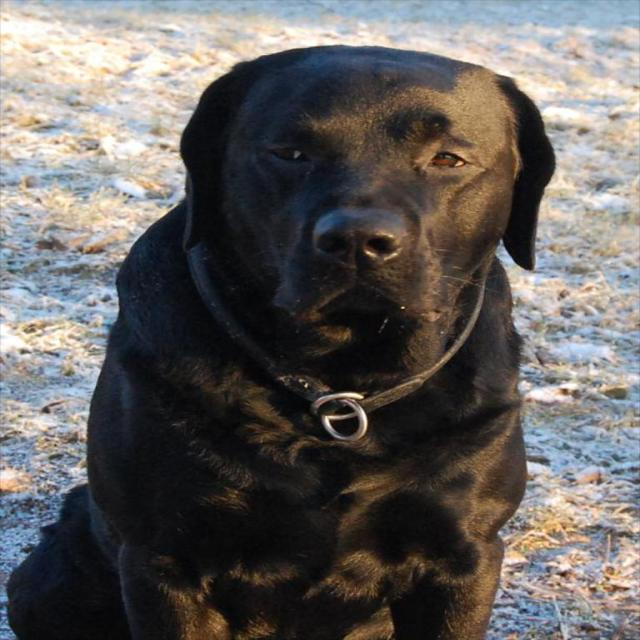Dog: (6, 45, 555, 640)
